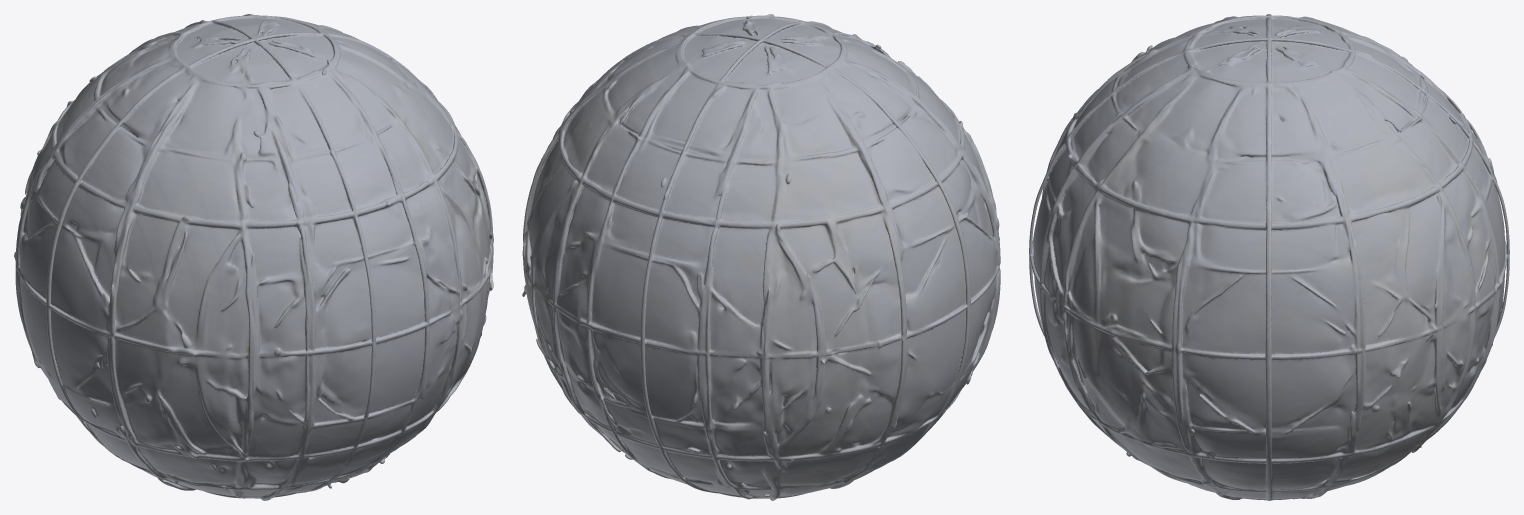
Rendered from detailed_realistic_model_crystalball_02.glb.
3 renders of one model, left to right at view 1: azimuth 30°, elevation 25°; view 2: azimuth 150°, elevation 25°; view 3: azimuth 270°, elevation 25°, orthographic.
Parts seen in each view (by area): view 1: tripo_node_227a68fc-0413-4e65-aa47-75ae371adc0e; view 2: tripo_node_227a68fc-0413-4e65-aa47-75ae371adc0e; view 3: tripo_node_227a68fc-0413-4e65-aa47-75ae371adc0e.
Part boxes in pixels (box(x1,y1,x2,y2)): tripo_node_227a68fc-0413-4e65-aa47-75ae371adc0e: box(14, 14, 493, 500); tripo_node_227a68fc-0413-4e65-aa47-75ae371adc0e: box(522, 14, 1000, 500); tripo_node_227a68fc-0413-4e65-aa47-75ae371adc0e: box(1029, 14, 1509, 500).
Size of the model in its own units: 1 by 0.9968 by 0.9954.
Materials: 1 (1 with a texture image).
